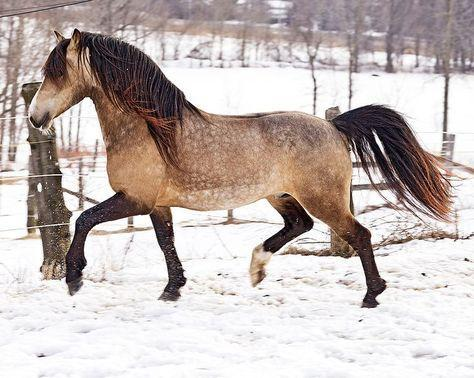horse: (25, 27, 464, 308)
